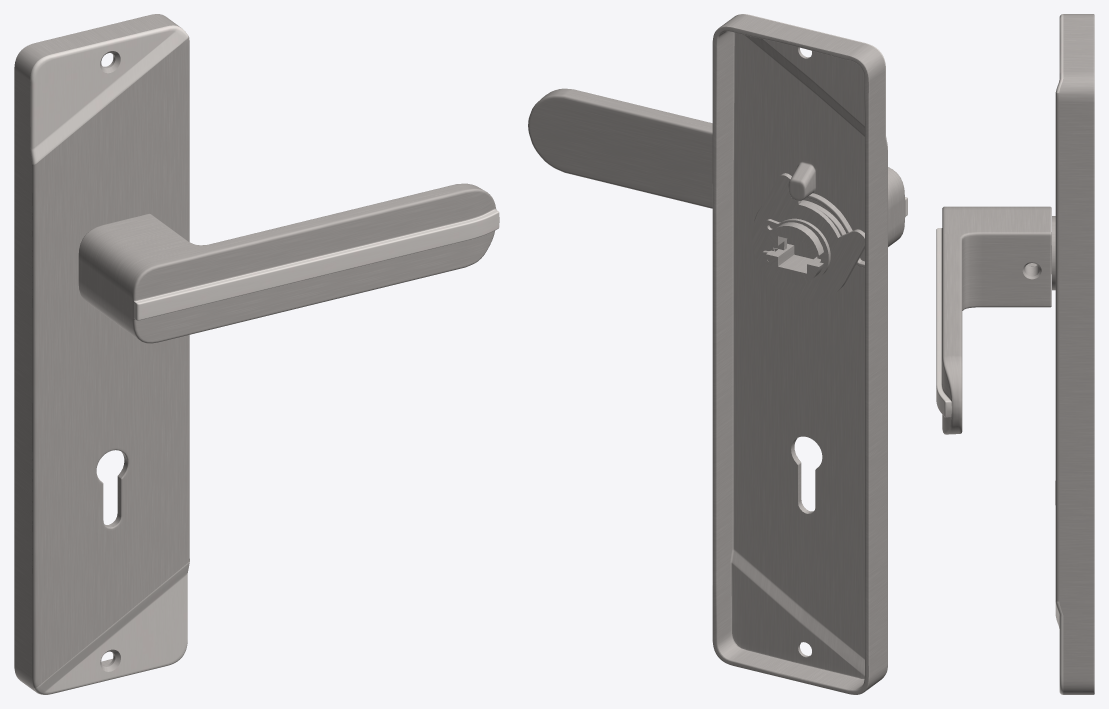
3 renders of one model, left to right at view 1: azimuth 30°, elevation 25°; view 2: azimuth 150°, elevation 25°; view 3: azimuth 270°, elevation 25°, orthographic. The views are drawn at different scales.
Visible parts, largest first — view 1: Godrej_6067; view 2: Godrej_6067; view 3: Godrej_6067.
Boxes of the visible parts, <box> form: Godrej_6067: <box>14,14,499,694</box>; Godrej_6067: <box>528,14,907,694</box>; Godrej_6067: <box>936,14,1094,694</box>.
Size of the model in its own units: 0.1176 by 0.175 by 0.0405.
Materials: 1 (1 with a texture image).
